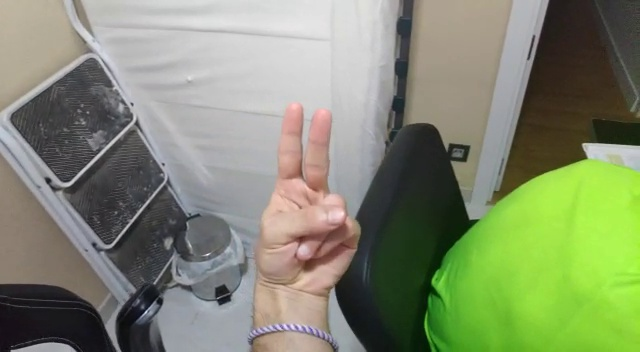Peace: (236, 91, 367, 292)
